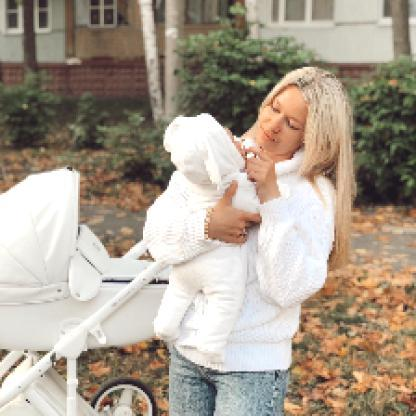child: (150, 113, 262, 364)
